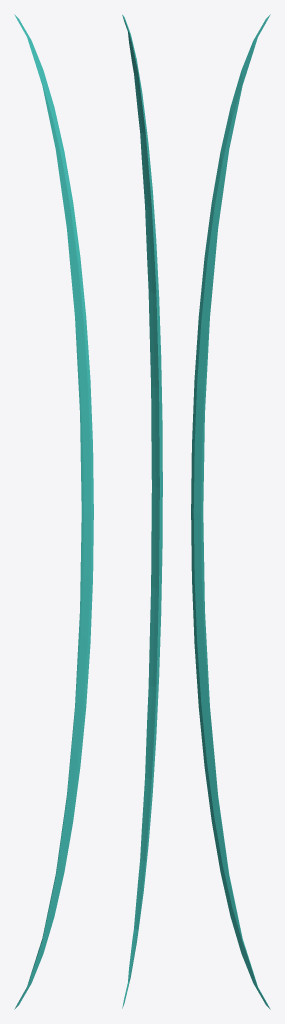
The model's file is SwordBullet.fbx.
3 views of the same model, side by side, from view 1: azimuth 90°, elevation 25°; view 2: azimuth 150°, elevation 25°; view 3: azimuth 270°, elevation 25° (orthographic).
Visible parts, largest first — view 1: トーラス; view 2: トーラス; view 3: トーラス.
Boxes of the visible parts, left/top/right/bottom form: トーラス: left=14, top=14, right=93, bottom=1009; トーラス: left=122, top=14, right=162, bottom=1008; トーラス: left=191, top=14, right=270, bottom=1009.
Bounding box in the file's own units: 2.77 × 327 × 23.76.
